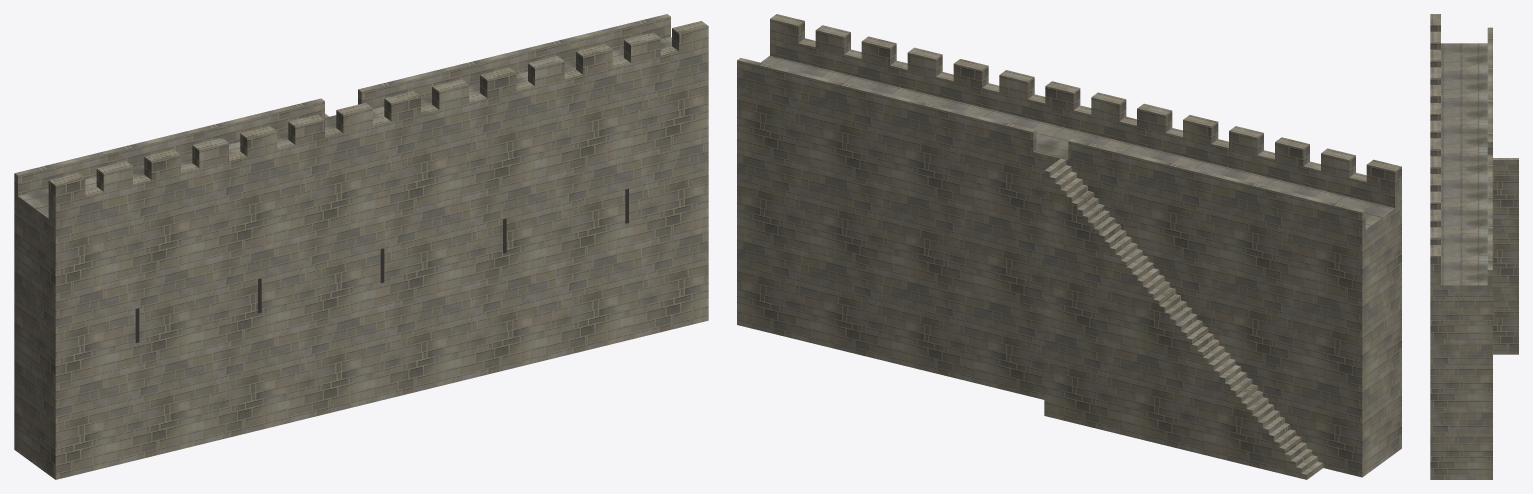
Rendered from fort-wall-32.fort-v1.lod0.glb.
The picture shows the model from 3 angles, left to right: view 1: azimuth 30°, elevation 25°; view 2: azimuth 150°, elevation 25°; view 3: azimuth 270°, elevation 25°; orthographic projection. The views are drawn at different scales.
Visible parts, largest first — view 1: fort-wall-32; view 2: fort-wall-32; view 3: fort-wall-32.
Part boxes in pixels (x1,y1,x2,y2): fort-wall-32: [14, 14, 708, 479]; fort-wall-32: [737, 14, 1401, 479]; fort-wall-32: [1430, 14, 1518, 479].
Bounding box in the file's own units: 32 × 13.8 × 4.97.
3 materials, 2 textured.
